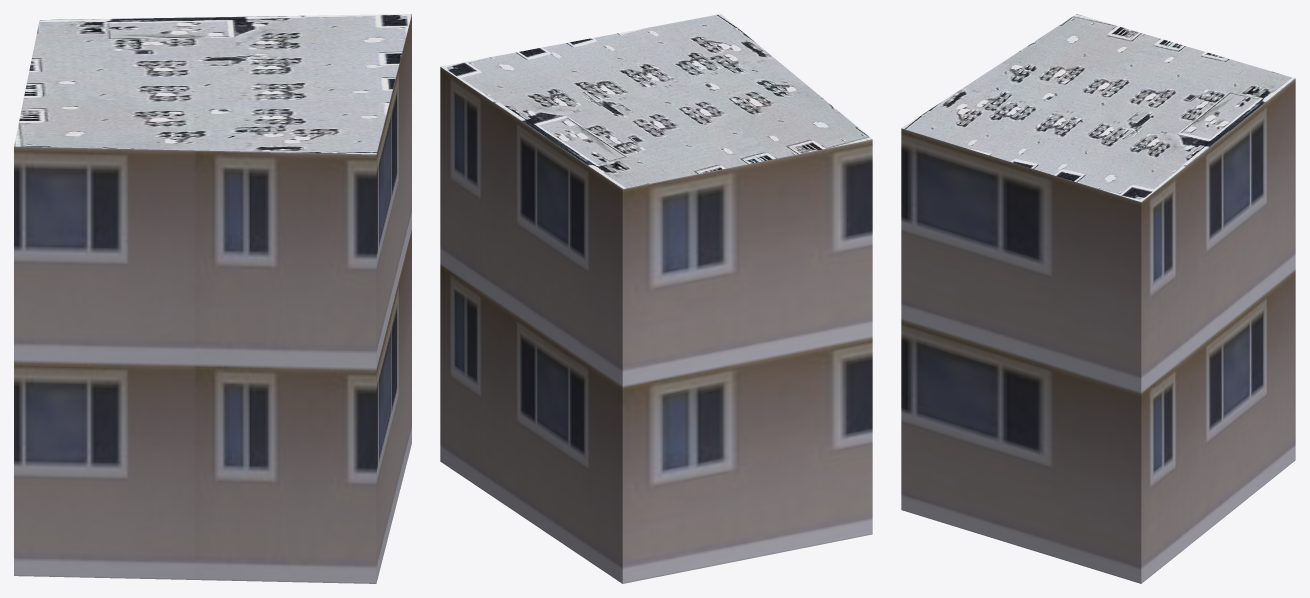
The model's file is ResTex__3483.fbx.
The picture shows the model from 3 angles, left to right: view 1: azimuth 30°, elevation 25°; view 2: azimuth 150°, elevation 25°; view 3: azimuth 270°, elevation 25°; orthographic projection. The views are drawn at different scales.
Parts seen in each view (by area): view 1: CityEngineMaterial_21_m, CityEngineMaterial_m; view 2: CityEngineMaterial_21_m, CityEngineMaterial_m; view 3: CityEngineMaterial_21_m, CityEngineMaterial_m.
Boxes of the visible parts, x1,y1,x2,y2 form: CityEngineMaterial_21_m: (14,14,411,583); CityEngineMaterial_m: (14,14,411,154); CityEngineMaterial_21_m: (440,67,872,583); CityEngineMaterial_m: (440,14,872,188); CityEngineMaterial_21_m: (901,79,1295,583); CityEngineMaterial_m: (901,14,1295,201).
Size of the model in its own units: 6.35 by 6 by 5.62.
Materials: 2 (2 with a texture image).
